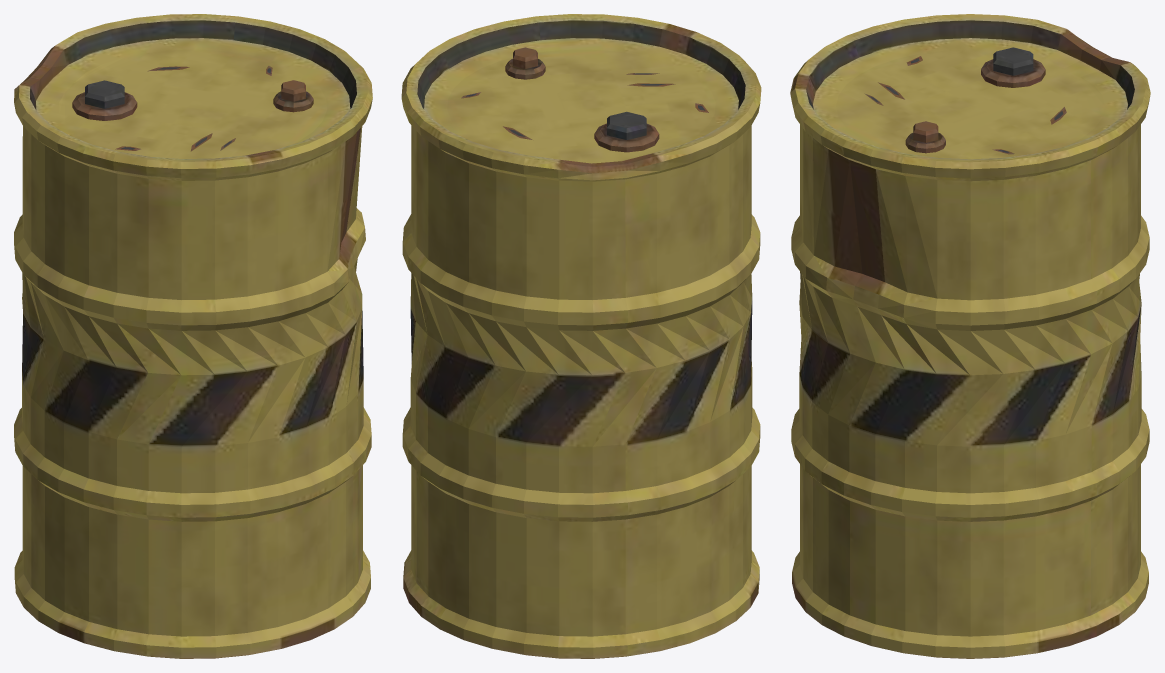
The model's file is Y14_hazard_barrel.glb.
The picture shows the model from 3 angles, left to right: view 1: azimuth 30°, elevation 25°; view 2: azimuth 150°, elevation 25°; view 3: azimuth 270°, elevation 25°; orthographic projection.
Visible parts, largest first — view 1: Hazard Barrel; view 2: Hazard Barrel; view 3: Hazard Barrel.
Part boxes in pixels (<box>): Hazard Barrel: <box>14,14,372,658</box>; Hazard Barrel: <box>401,14,761,658</box>; Hazard Barrel: <box>790,14,1150,658</box>.
Bounding box in the file's own units: 0.59 × 0.9 × 0.59.
4 materials, 4 textured.
